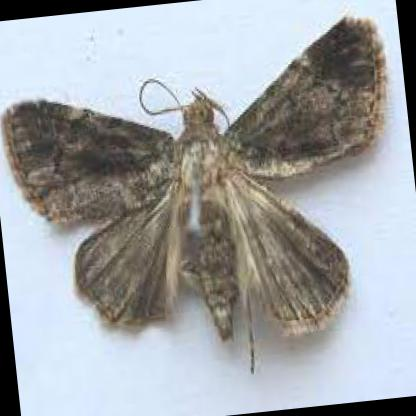Leaf Webber: (4, 9, 384, 350)
